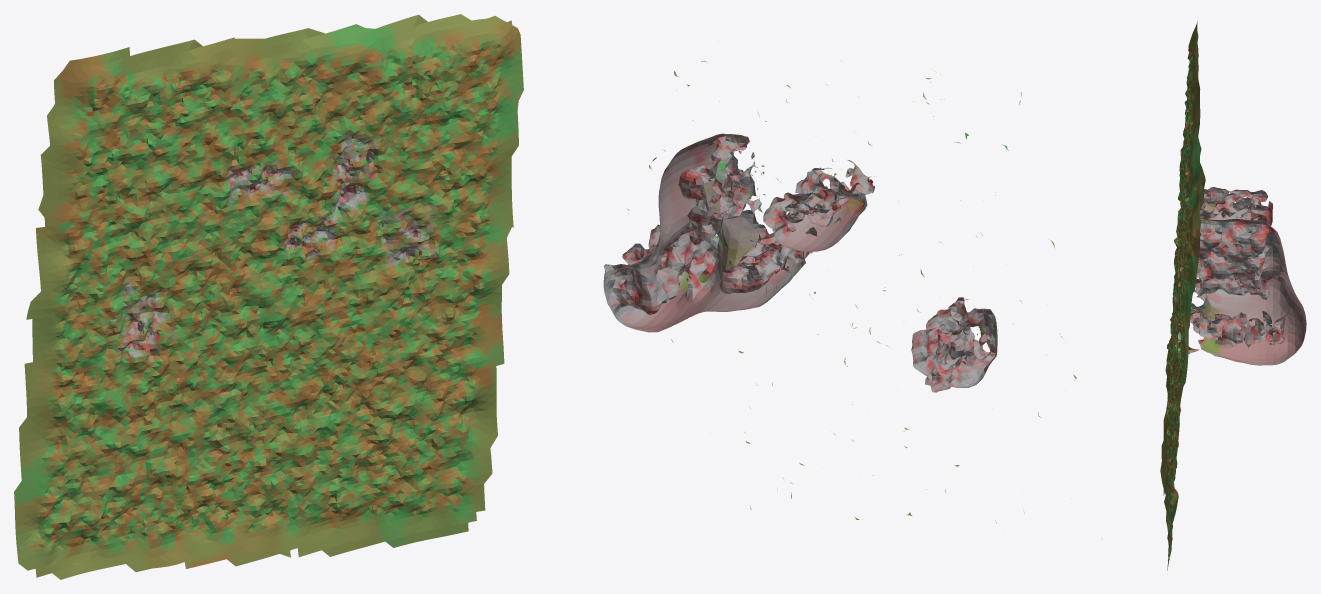
3 views of the same model, side by side, from view 1: azimuth 30°, elevation 25°; view 2: azimuth 150°, elevation 25°; view 3: azimuth 270°, elevation 25° (orthographic). The views are drawn at different scales.
Parts seen in each view (by area): view 1: geometry_0; view 2: geometry_0; view 3: geometry_0.
Boxes of the visible parts, x1,y1,x2,y2 form: geometry_0: (14, 14, 523, 579); geometry_0: (603, 60, 1102, 539); geometry_0: (1160, 20, 1306, 570).
Size of the model in its own units: 1359 by 1359 by 425.
